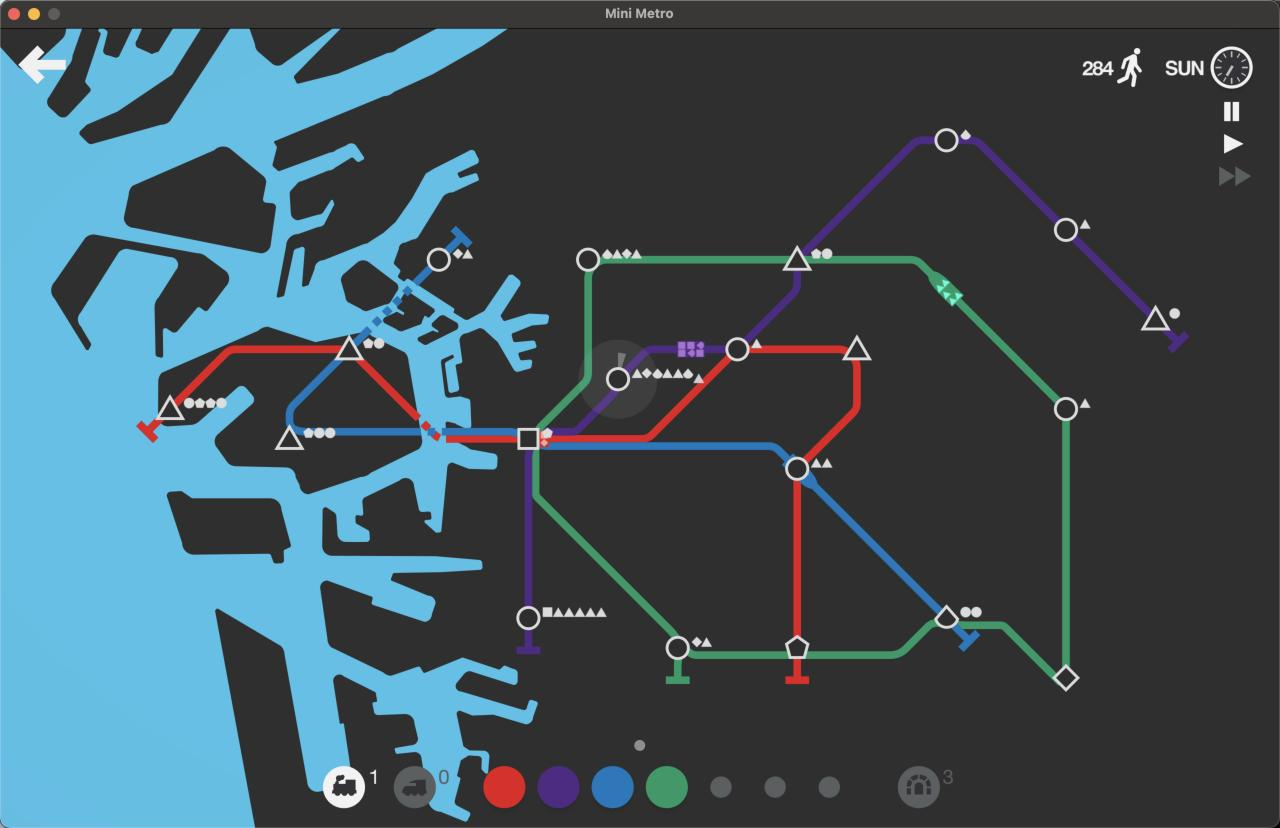CIRCLE: (516, 605, 542, 631), (605, 367, 631, 393), (1054, 217, 1079, 243), (934, 127, 959, 153), (665, 635, 690, 661), (785, 455, 810, 481), (426, 247, 451, 272), (575, 247, 600, 272), (1054, 396, 1079, 421), (725, 336, 750, 361)
GEM: (1053, 664, 1080, 691)
PENTAGON: (784, 635, 810, 659)
SQUARE: (517, 427, 541, 450)
TRIANGLE: (155, 394, 186, 424), (1141, 303, 1173, 332), (783, 244, 814, 272), (841, 334, 873, 361), (335, 334, 366, 361), (274, 423, 303, 451)
WEDGE: (934, 604, 959, 629)
